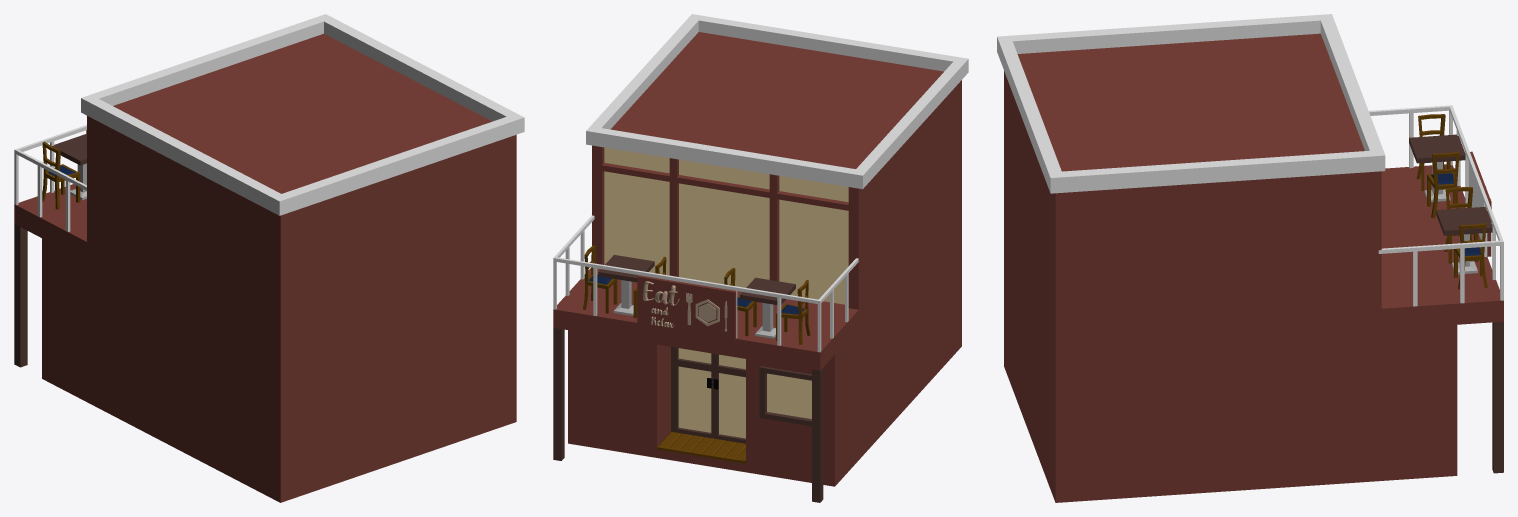
Rendered from Restaurant.fbx.
3 renders of one model, left to right at view 1: azimuth 30°, elevation 25°; view 2: azimuth 150°, elevation 25°; view 3: azimuth 270°, elevation 25°, orthographic. The views are drawn at different scales.
Parts seen in each view (by area): view 1: Restaurant; view 2: Restaurant; view 3: Restaurant.
Part boxes in pixels (<box>): Restaurant: <box>14,14,524,502</box>; Restaurant: <box>553,14,968,502</box>; Restaurant: <box>997,14,1503,502</box>.
Size of the model in its own units: 1241 by 1567 by 1118.
